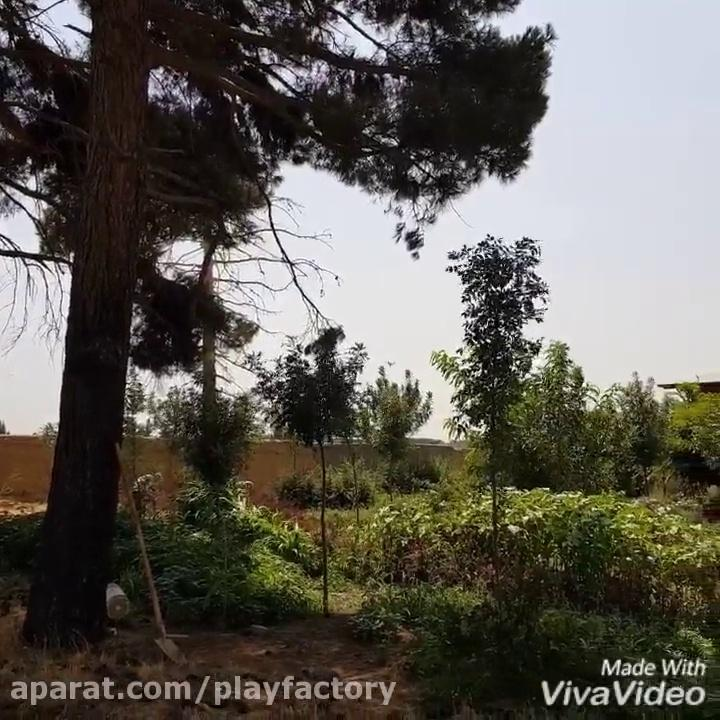drone: (382, 356, 399, 368)
